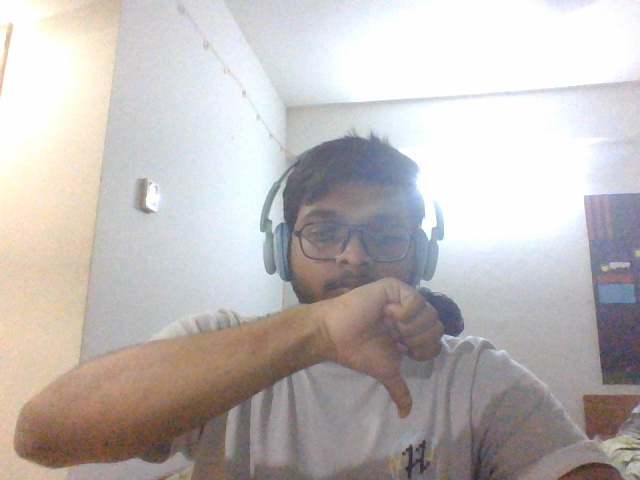ThumbsDown: (317, 275, 444, 421)
